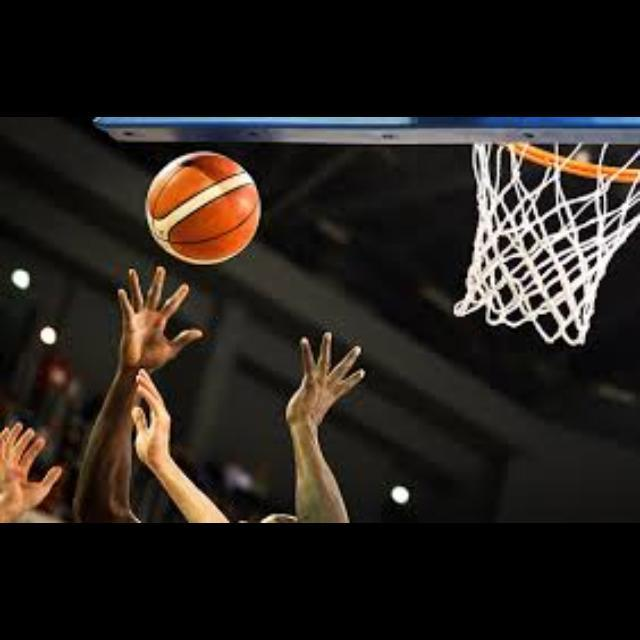basketball: (146, 154, 260, 262)
